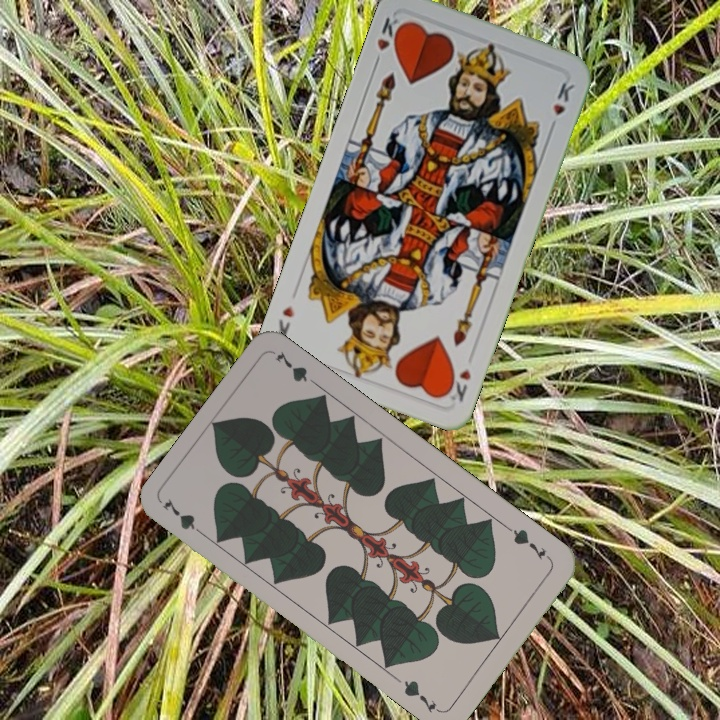G7: (158, 494, 210, 541), (503, 523, 554, 564)
HK: (373, 13, 408, 55), (441, 364, 474, 405)
